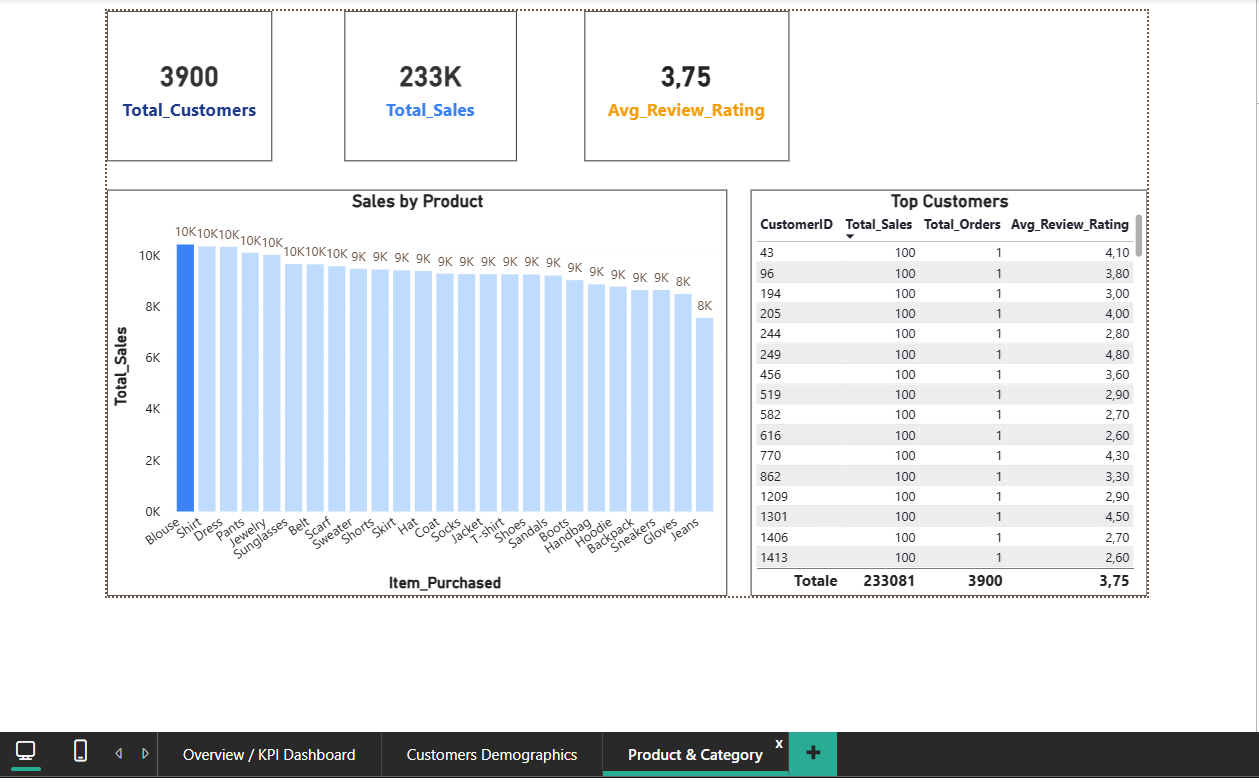

This screenshot's page, from the dashboard's own definition file:
{"tool":"powerbi","page":{"name":"Product & Category","canvas":[1280,720],"ordinal":2},"visuals":[{"type":"columnChart","title":"Sales by Product","fields":{"Category":["shopping_behavior_updated.Item_Purchased"],"Y":["Sum(shopping_behavior_updated.Purchase_Amount)"]},"box":[0,220,763.3,500],"z":3000},{"type":"tableEx","title":"Top Customers","fields":{"Values":["shopping_behavior_updated.CustomerID","Sum(shopping_behavior_updated.Purchase_Amount)","shopping_behavior_updated.Total_Orders","Avg(shopping_behavior_updated.Review_Rating)"]},"box":[791.7,220,488.3,500],"z":4000},{"type":"card","fields":{"Values":["shopping_behavior_updated.Total_Sales"]},"box":[291.7,0,211.7,185],"z":4001},{"type":"card","fields":{"Values":["shopping_behavior_updated.Total_Customers"]},"box":[0,0,203.3,185],"z":4002},{"type":"card","fields":{"Values":["Avg(shopping_behavior_updated.Review_Rating)"]},"box":[588.3,0,251.7,185],"z":4003}]}

Visuals, with their boxes on the page's 1280x720 design canvas (x1, y1, x2, y2). These are canvas units, not pixel positions in the 1259x782 screenshot, which may show the page scaled, cropped or inside an application window:
"Sales by Product" columnChart: <region>0, 220, 763, 720</region>
"Top Customers" tableEx: <region>792, 220, 1280, 720</region>
card - shopping_behavior_updated.Total_Sales: <region>292, 0, 503, 185</region>
card - shopping_behavior_updated.Total_Customers: <region>0, 0, 203, 185</region>
card - Avg(shopping_behavior_updated.Review_Rating): <region>588, 0, 840, 185</region>
